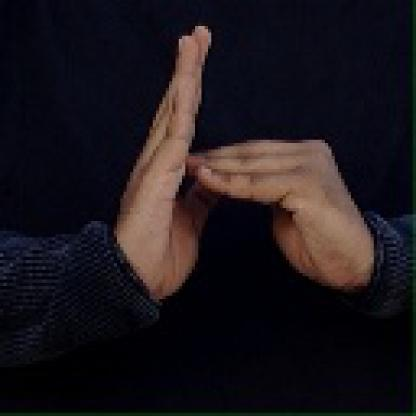Z: (116, 17, 347, 294)
